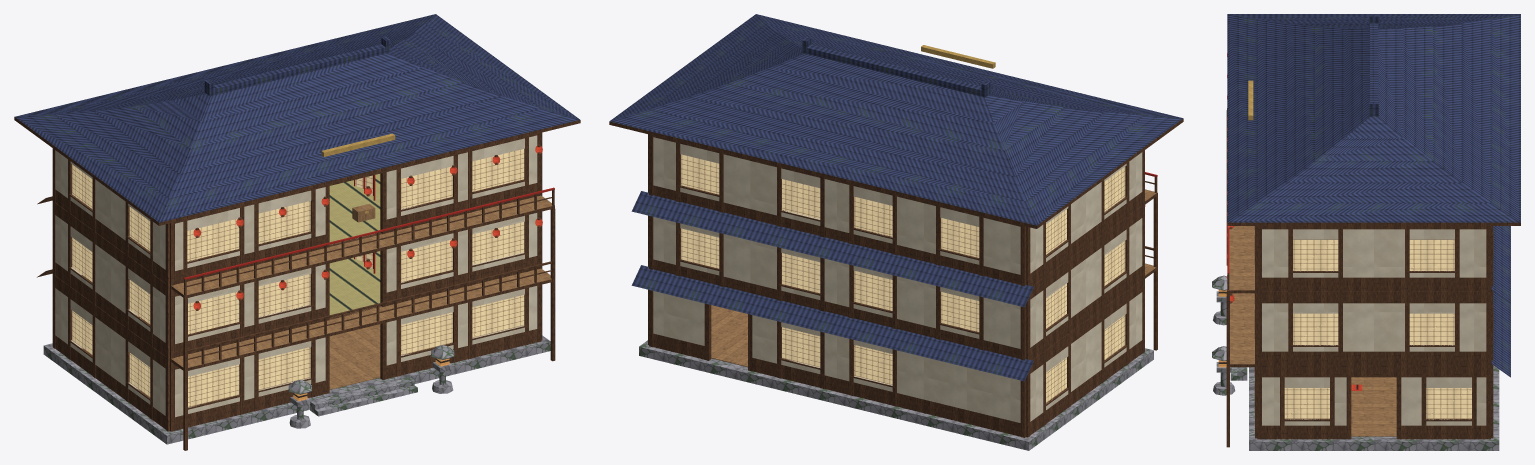
File: house_inn.gltf
3 renders of one model, left to right at view 1: azimuth 30°, elevation 25°; view 2: azimuth 150°, elevation 25°; view 3: azimuth 270°, elevation 25°, orthographic.
Visible parts, largest first — view 1: Building; view 2: Building; view 3: Building.
Boxes of the visible parts, x1,y1,x2,y2 form: Building: [14, 14, 580, 450]; Building: [609, 14, 1183, 450]; Building: [1212, 14, 1520, 450].
Bounding box in the file's own units: 29.6 × 19.62 × 18.51.
13 materials, 13 textured.
